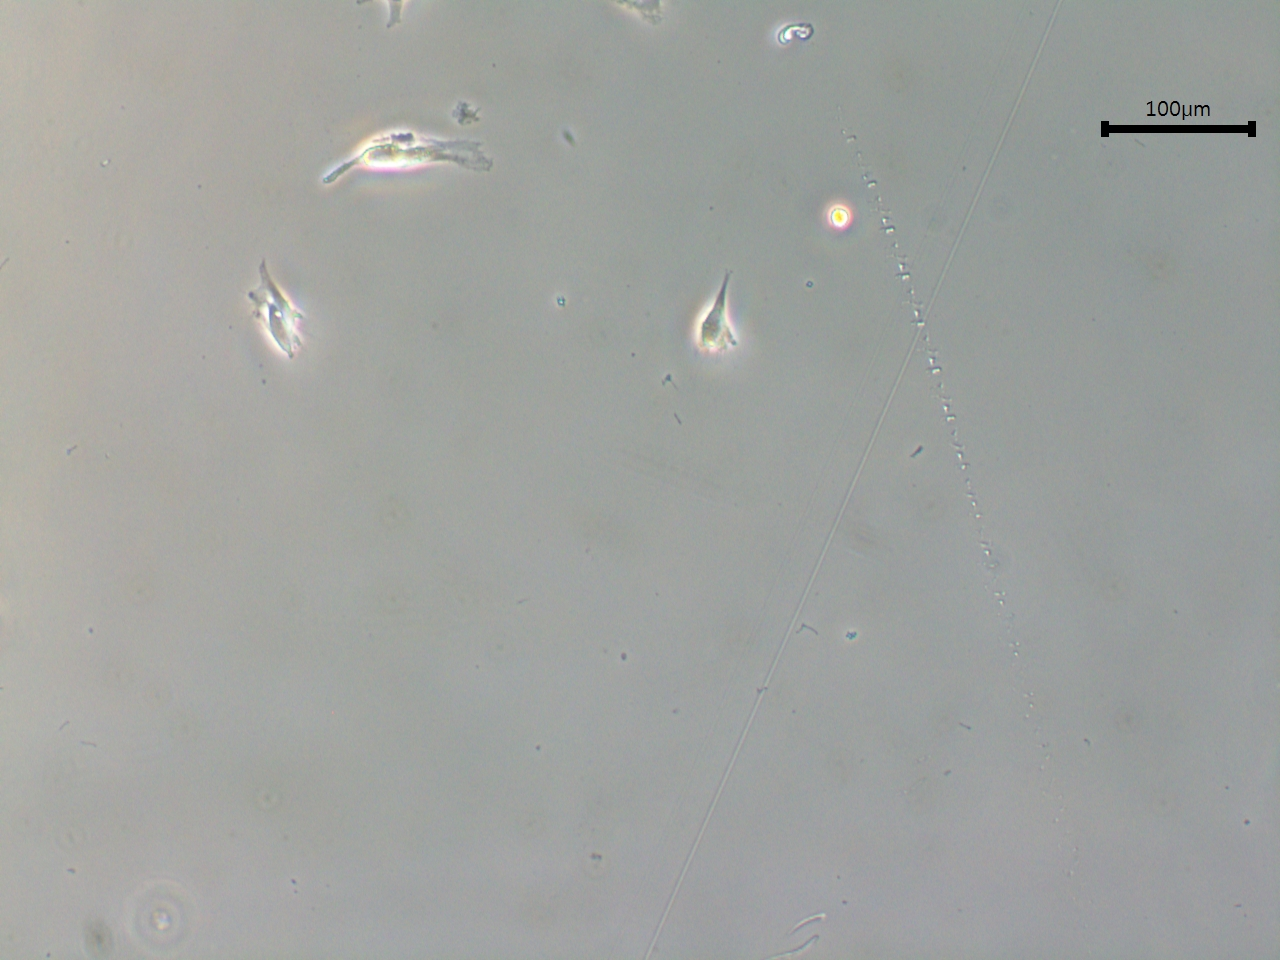small-polygonal: (679, 268, 751, 368)
small-spread: (244, 256, 307, 379)
spindle: (313, 132, 510, 200)
